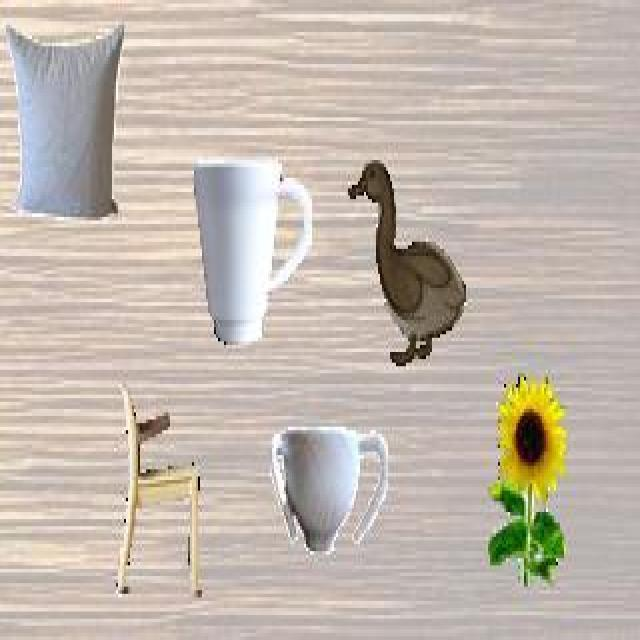Other Objects: (348, 160, 466, 368), (192, 156, 312, 350), (6, 24, 124, 220), (268, 428, 389, 556)
